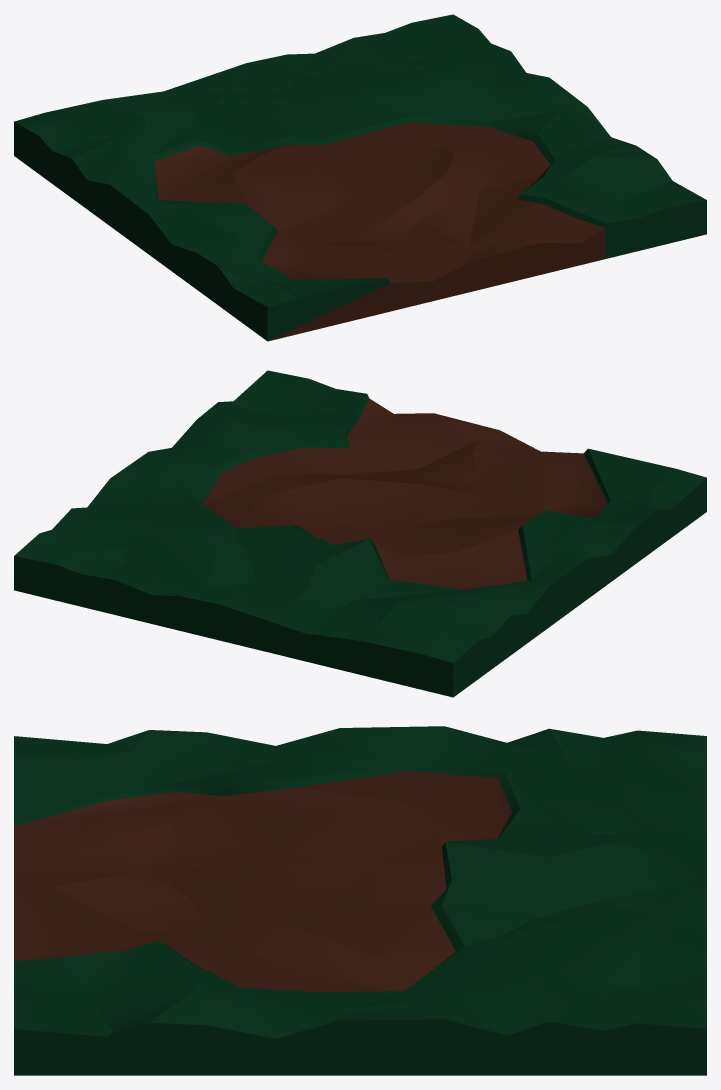
Rendered from Ground_Path_Ending_U.fbx.
3 renders of one model, top to bottom at view 1: azimuth 30°, elevation 25°; view 2: azimuth 150°, elevation 25°; view 3: azimuth 270°, elevation 25°, orthographic. The views are drawn at different scales.
Parts seen in each view (by area): view 1: Ground_Path_Ending_U; view 2: Ground_Path_Ending_U; view 3: Ground_Path_Ending_U.
Boxes of the visible parts, x1=… form: Ground_Path_Ending_U: x1=14, y1=14, x2=706, y2=341; Ground_Path_Ending_U: x1=14, y1=370, x2=706, y2=697; Ground_Path_Ending_U: x1=14, y1=726, x2=706, y2=1075.
Size of the model in its own units: 147 by 14.26 by 147.
